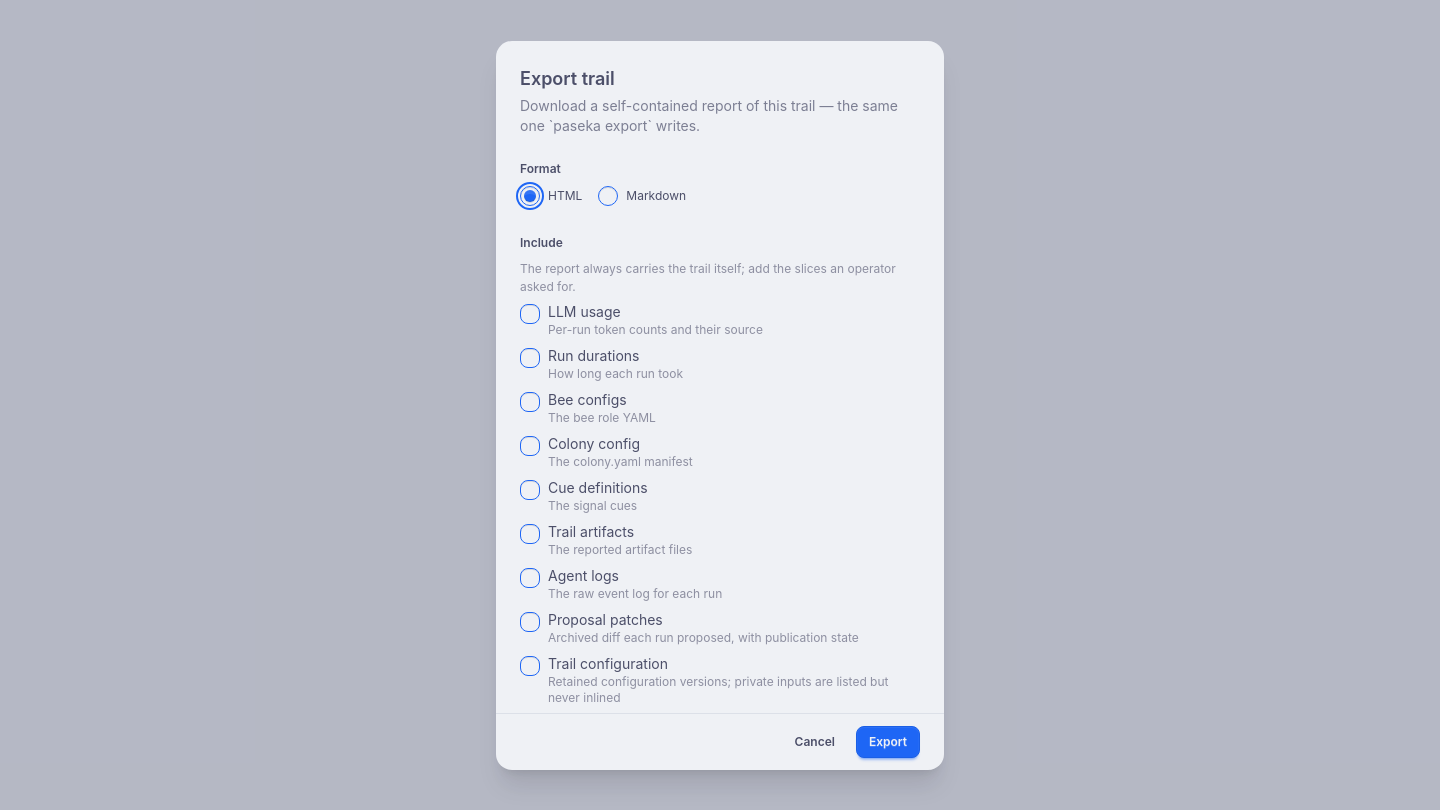
Test: ExportTraceModal › keeps the dialog open and shows the reason when the export fails
Click the button "Export". click: (888, 742)
box: 856,726 -> 920,758
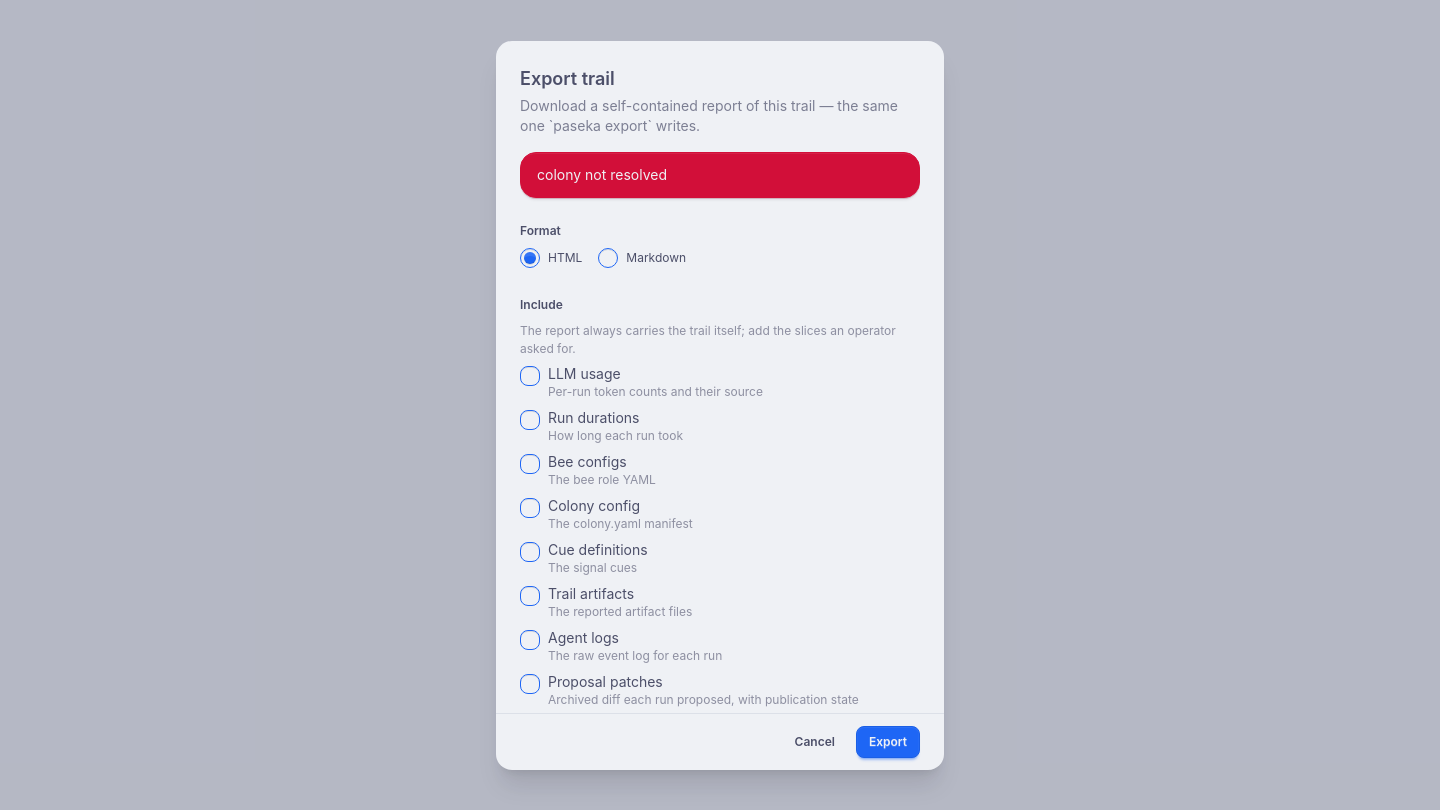
Expected: the message reads "colony not resolved", 537,166 -> 667,182
